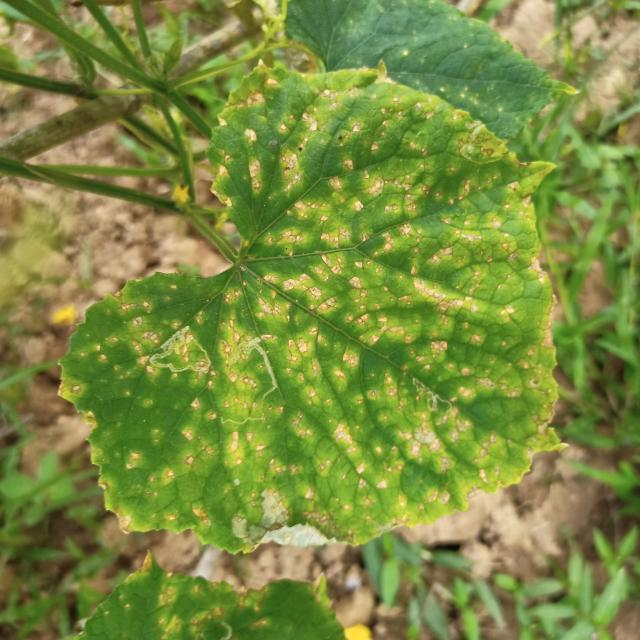disease_cucumber: (67, 65, 566, 542)
